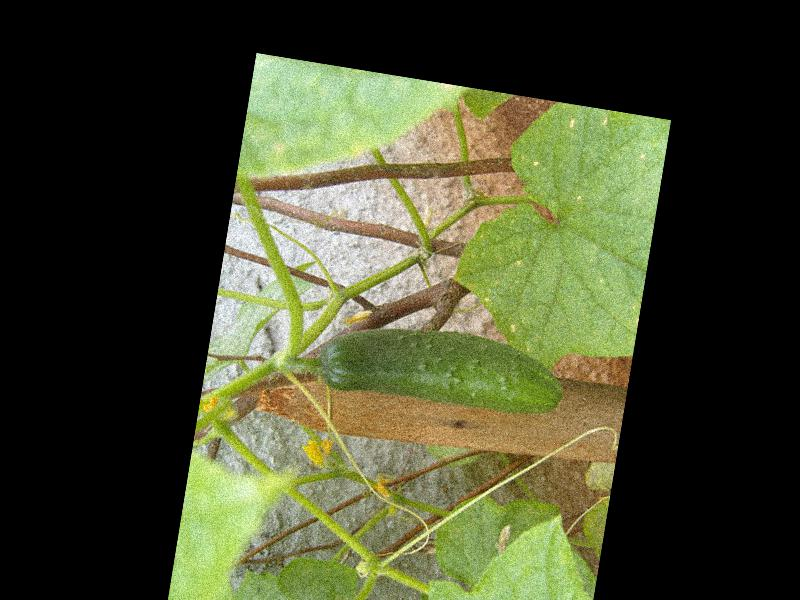Cucumber: (312, 310, 570, 426)
